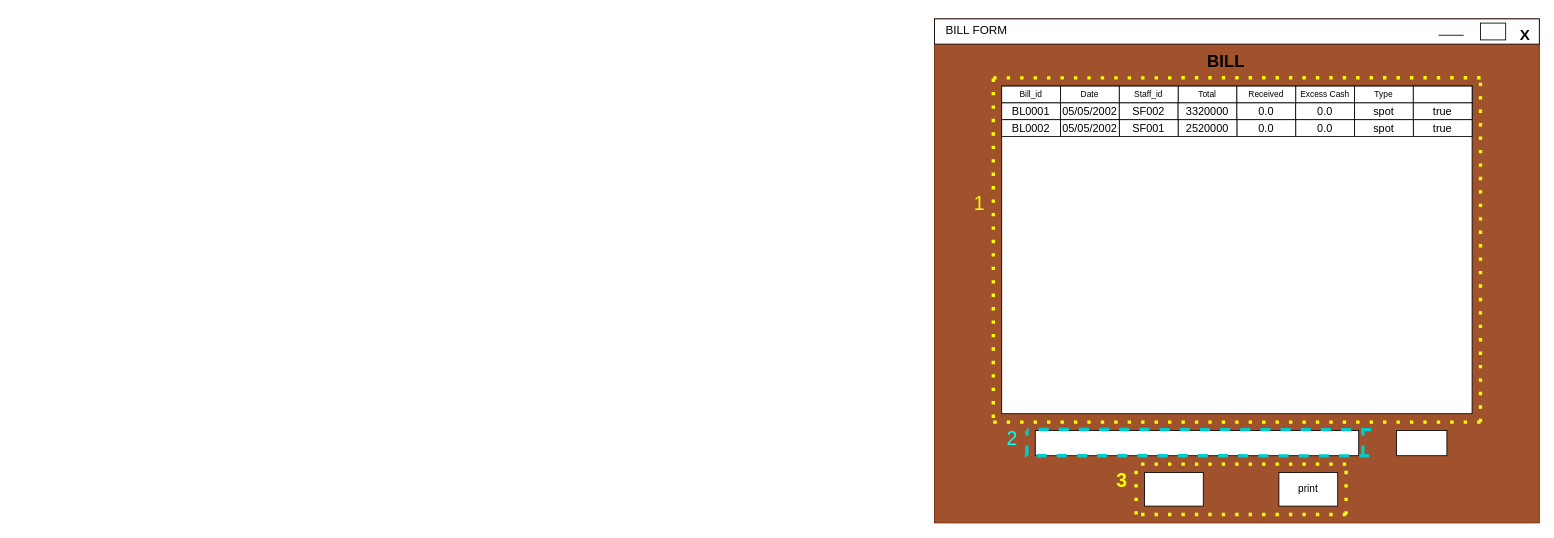
Some shapes in this 1554 by 538 pixel diagram are drawn without their labels. Each missing label, with the box of its shape:
delete: (1144, 472, 1203, 506)
search: (1396, 430, 1447, 456)
Status_Payment: (1412, 85, 1472, 103)
